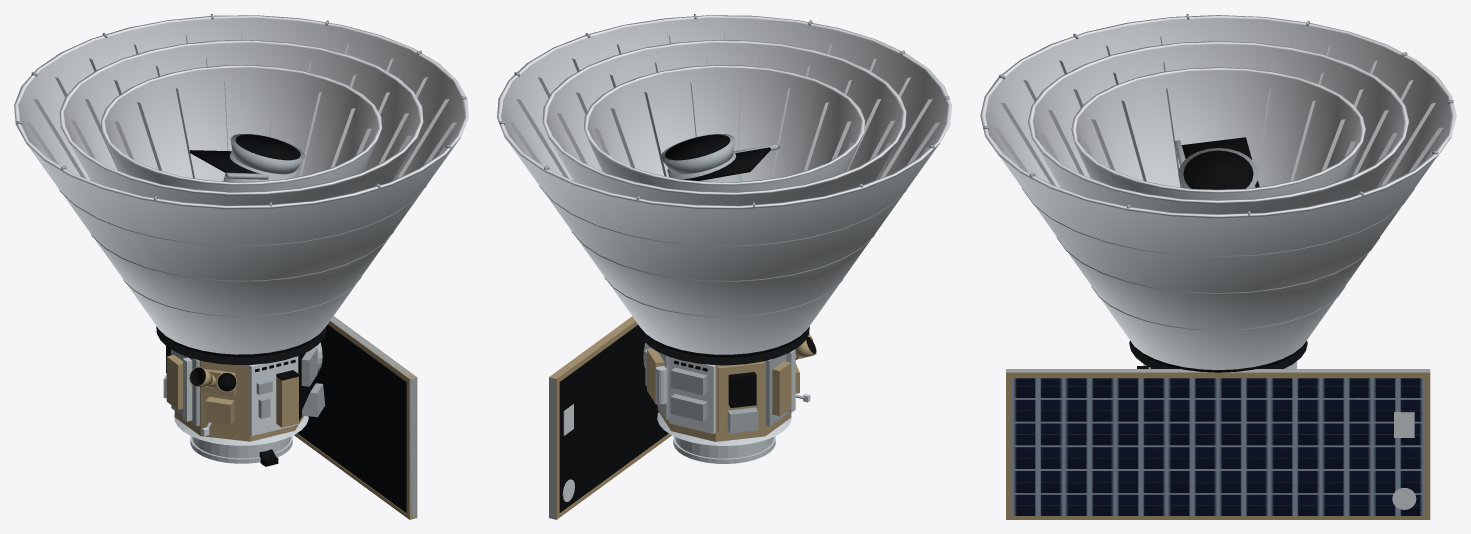
Rendered from spherex.glb.
The picture shows the model from 3 angles, left to right: view 1: azimuth 30°, elevation 25°; view 2: azimuth 150°, elevation 25°; view 3: azimuth 270°, elevation 25°; orthographic projection. The views are drawn at different scales.
Parts seen in each view (by area): view 1: SPHEREx_PhotonShields, SPHEREx_SolarArray, SPHEREx_InstrumentBus; view 2: SPHEREx_PhotonShields, SPHEREx_SolarArray, SPHEREx_InstrumentBus; view 3: SPHEREx_PhotonShields, SPHEREx_SolarArray, SPHEREx_InstrumentBus.
Boxes of the visible parts, x1=… form: SPHEREx_PhotonShields: x1=14, y1=14, x2=468, y2=357; SPHEREx_SolarArray: x1=294, y1=316, x2=417, y2=519; SPHEREx_InstrumentBus: x1=156, y1=326, x2=326, y2=466; SPHEREx_PhotonShields: x1=497, y1=14, x2=951, y2=357; SPHEREx_SolarArray: x1=549, y1=316, x2=671, y2=519; SPHEREx_InstrumentBus: x1=639, y1=326, x2=810, y2=463; SPHEREx_PhotonShields: x1=980, y1=14, x2=1456, y2=372; SPHEREx_SolarArray: x1=1006, y1=369, x2=1430, y2=519; SPHEREx_InstrumentBus: x1=1129, y1=340, x2=1307, y2=368.
Size of the model in its own units: 2.2 by 1.88 by 2.2.
Materials: 9 (1 with a texture image).
